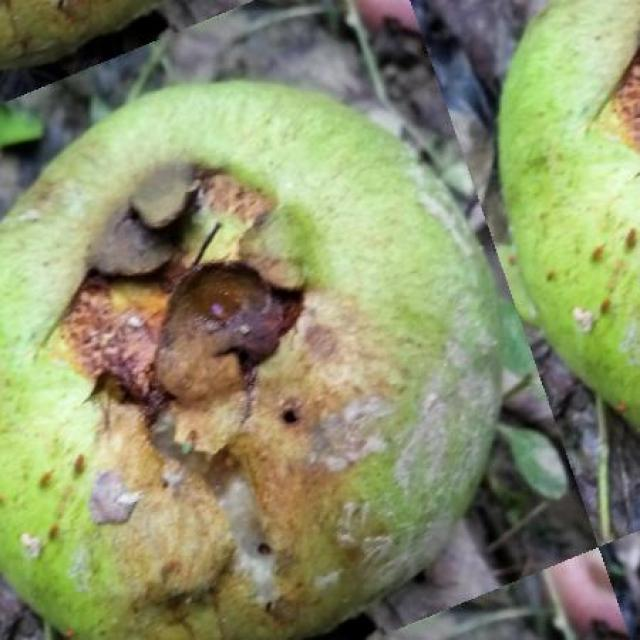Styler and Root: (0, 82, 500, 640), (499, 0, 640, 431)
